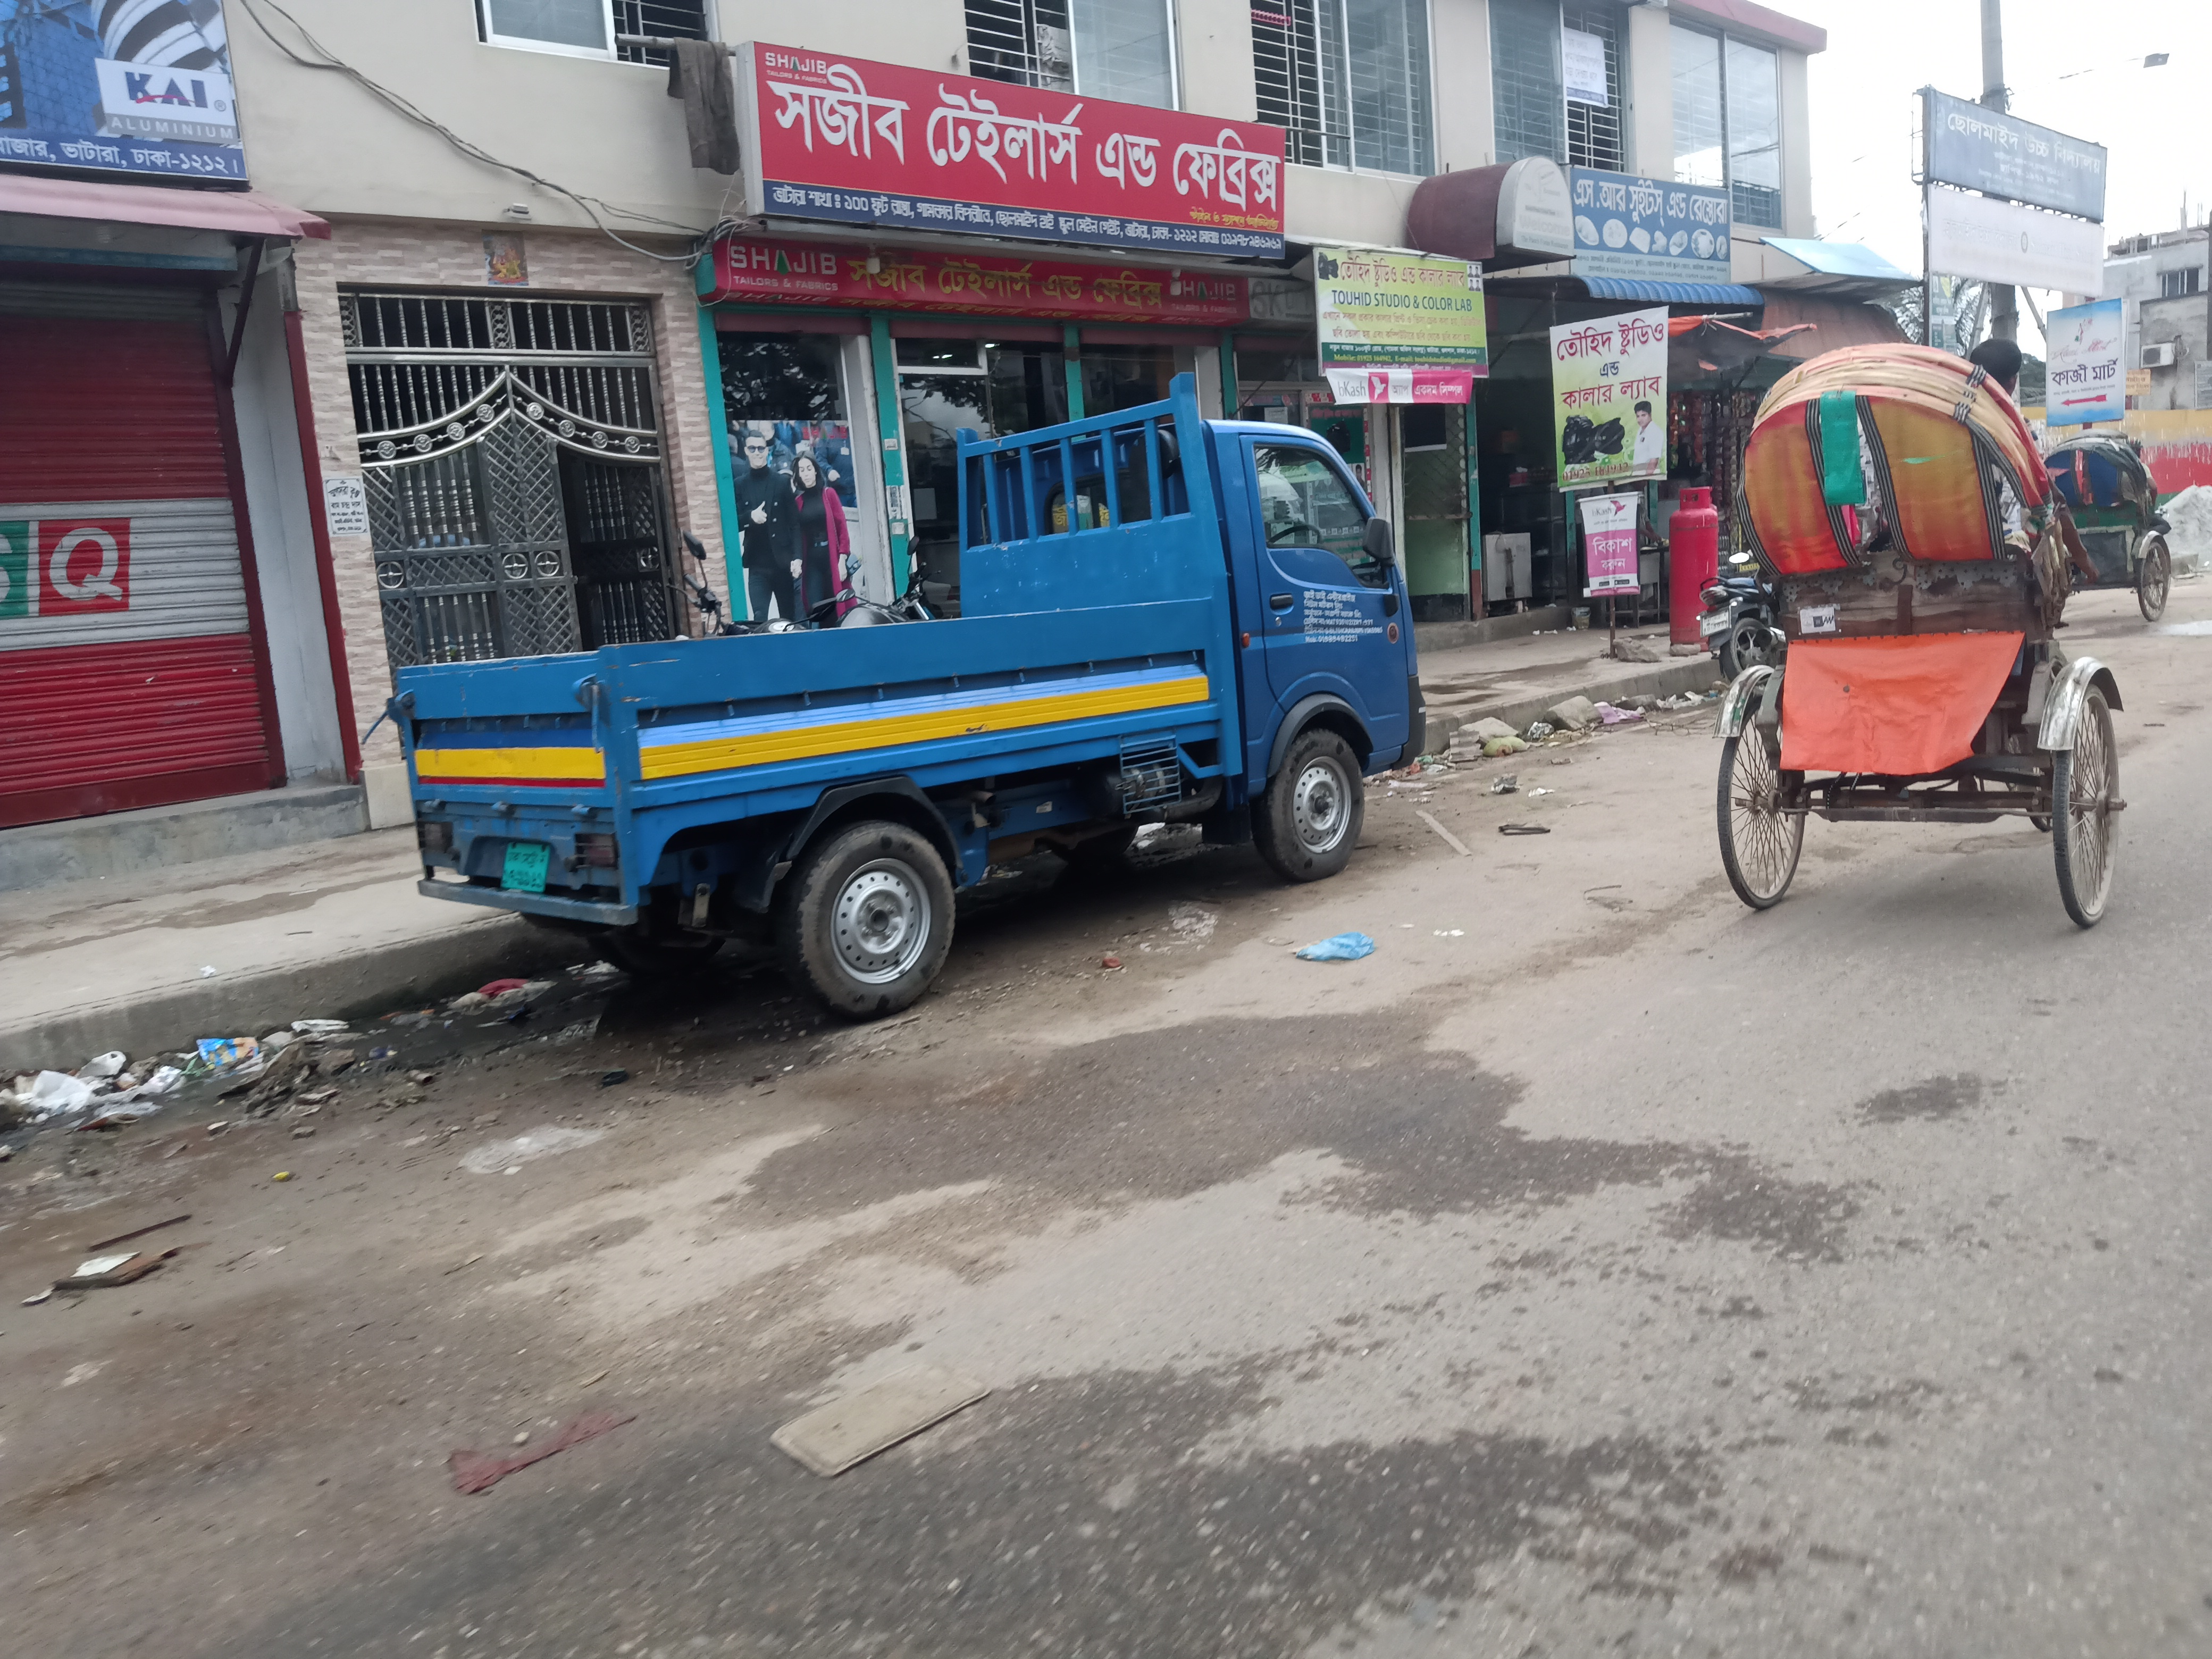rickshaw: (1710, 349, 2135, 929), (2060, 427, 2186, 610)
truck: (399, 394, 1430, 1011)
